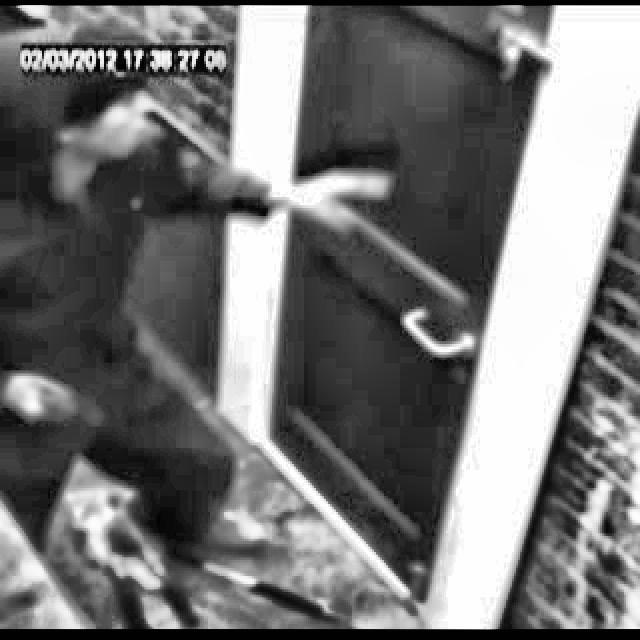burglary: (0, 76, 488, 581)
